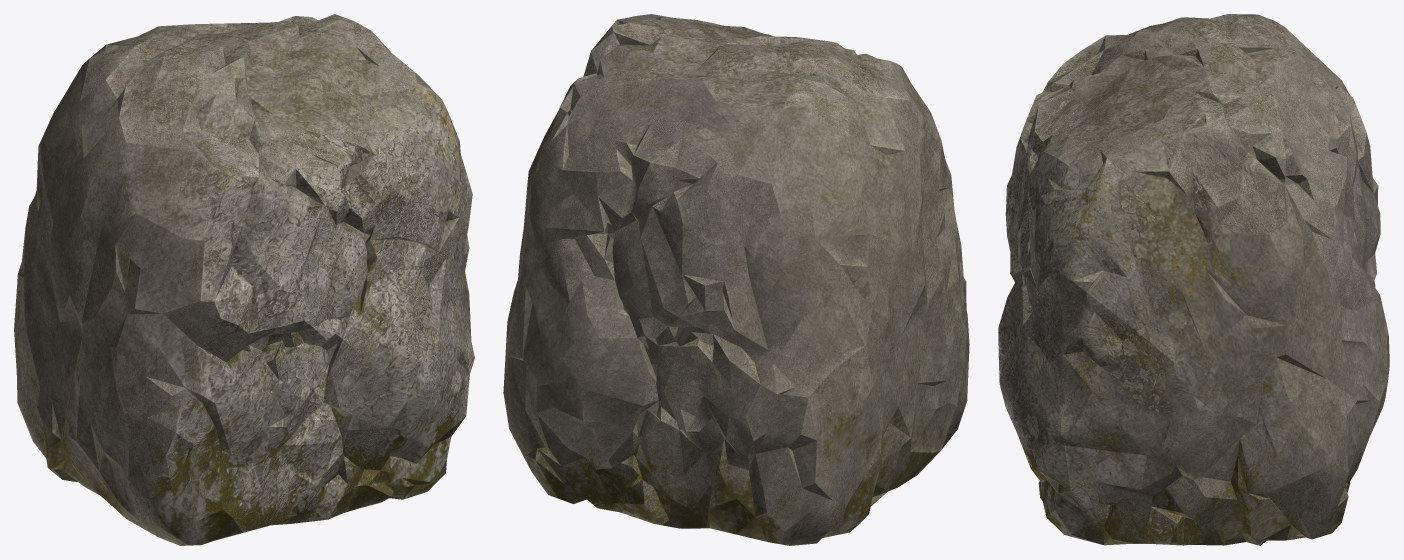
The model's file is roca_mediana.glb.
3 views of the same model, side by side, from view 1: azimuth 30°, elevation 25°; view 2: azimuth 150°, elevation 25°; view 3: azimuth 270°, elevation 25° (orthographic). The views are drawn at different scales.
Bounding box in the file's own units: 1.67 × 1.89 × 1.57.
Materials: 1 (1 with a texture image).
